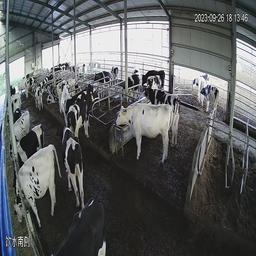cow: (15, 144, 58, 234), (118, 100, 173, 166), (51, 190, 107, 253), (56, 122, 85, 210), (144, 83, 181, 151), (13, 122, 45, 196), (68, 91, 94, 146), (8, 107, 30, 162), (56, 77, 80, 115), (111, 71, 136, 104), (199, 83, 221, 119), (139, 68, 165, 90), (93, 69, 113, 93), (193, 72, 207, 105), (146, 73, 164, 96), (17, 77, 30, 97), (109, 61, 121, 82), (33, 82, 41, 112), (45, 88, 58, 106)
